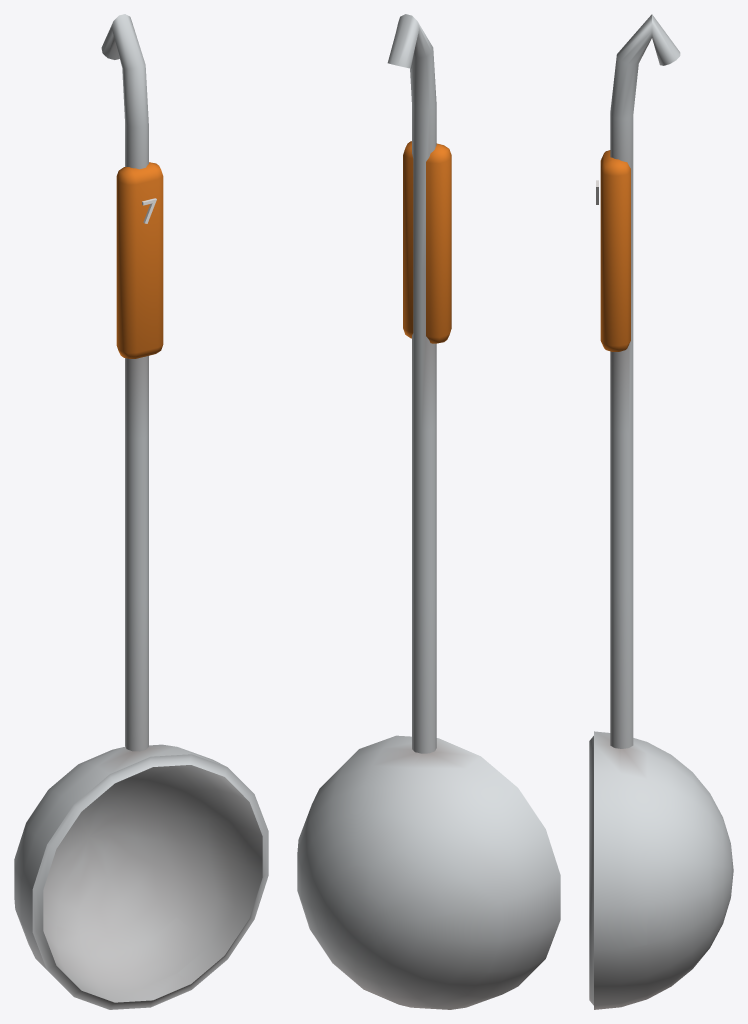
File: fp-ladle-7.gltf
3 views of the same model, side by side, from view 1: azimuth 30°, elevation 25°; view 2: azimuth 150°, elevation 25°; view 3: azimuth 270°, elevation 25° (orthographic). The views are drawn at different scales.
Parts seen in each view (by area): view 1: model; view 2: model; view 3: model.
Boxes of the visible parts, box(x1,y1,x2,y2) form: model: box(14, 14, 268, 1009); model: box(297, 14, 560, 1009); model: box(589, 14, 733, 1009).
Size of the model in its own units: 0.0911 by 0.3583 by 0.0477.
